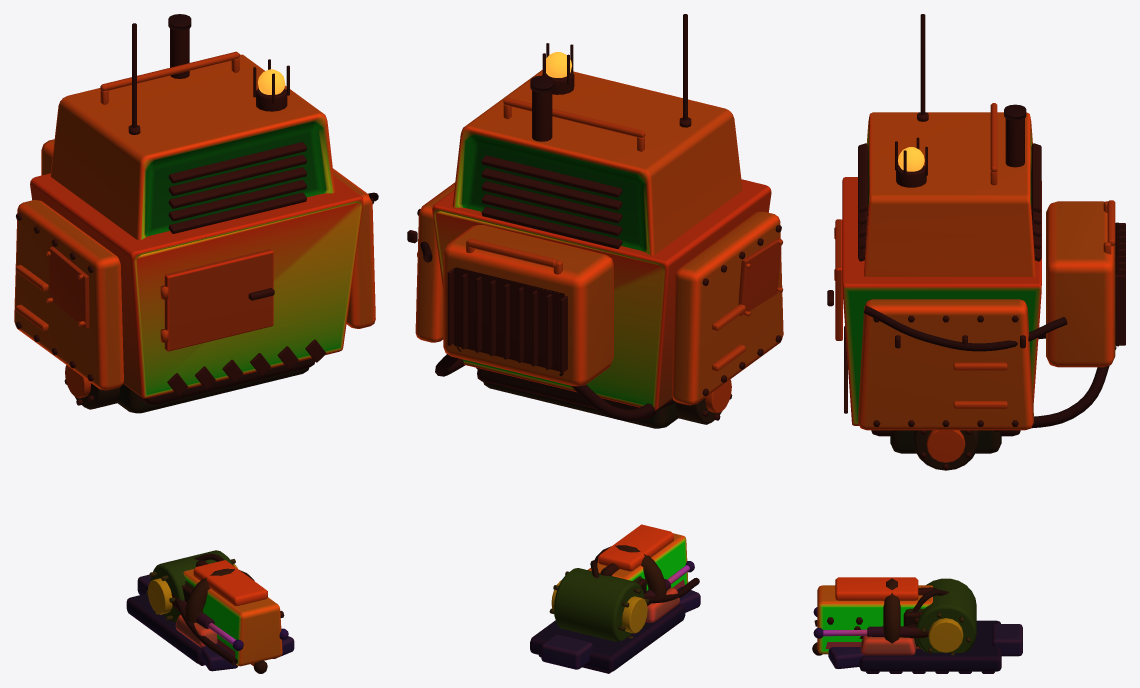
The model's file is mech-rich.glb.
3 views of the same model, side by side, from view 1: azimuth 30°, elevation 25°; view 2: azimuth 150°, elevation 25°; view 3: azimuth 270°, elevation 25° (orthographic). The views are drawn at different scales.
Parts seen in each view (by area): view 1: Body, Thigh, Foot, Knee, LaserHead, Shin; view 2: Body, Knee, Foot, Thigh, LaserHead; view 3: Body, Foot, Thigh, Knee, Shin, LaserHead.
Boxes of the visible parts, left/top/right/bottom form: Body: left=14, top=14, right=378, bottom=413; Thigh: left=171, top=560, right=284, bottom=673; Foot: left=126, top=574, right=294, bottom=671; Knee: left=146, top=550, right=237, bottom=622; LaserHead: left=181, top=553, right=254, bottom=623; Shin: left=172, top=584, right=288, bottom=666; Body: left=407, top=14, right=783, bottom=428; Knee: left=549, top=568, right=649, bottom=641; Foot: left=530, top=586, right=700, bottom=673; Thigh: left=588, top=524, right=699, bottom=603; LaserHead: left=590, top=545, right=666, bottom=598; Body: left=827, top=14, right=1125, bottom=470; Foot: left=828, top=620, right=1022, bottom=673; Thigh: left=812, top=577, right=932, bottom=655; Knee: left=916, top=578, right=976, bottom=655; Shin: left=813, top=607, right=928, bottom=648; LaserHead: left=883, top=578, right=948, bottom=648.
Size of the model in its own units: 1.73 by 3.49 by 1.63.
